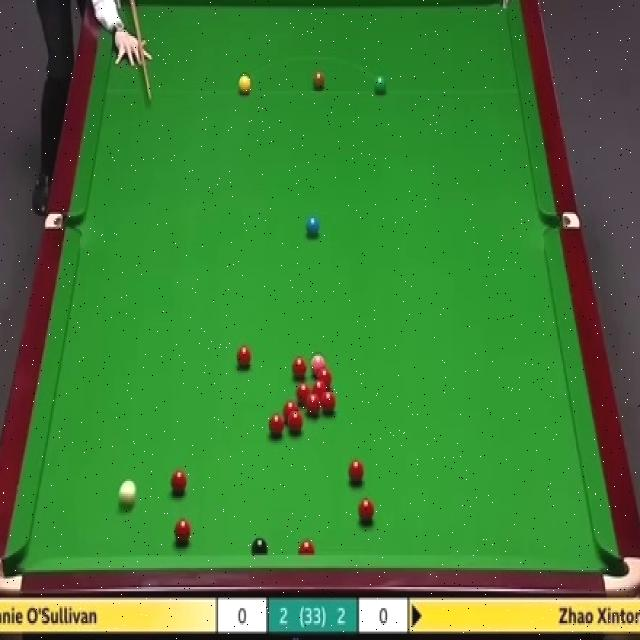black-ball: (250, 537, 268, 557)
blue-ball: (306, 216, 320, 239)
brown-ball: (314, 74, 326, 94)
green-ball: (373, 75, 390, 95)
pink-ball: (310, 352, 326, 370)
red-ball: (174, 517, 192, 547), (267, 412, 285, 439), (170, 468, 187, 496), (358, 496, 375, 524), (348, 460, 364, 487), (287, 410, 304, 435), (235, 345, 252, 369), (305, 392, 321, 417), (298, 536, 315, 556), (296, 382, 310, 404), (292, 356, 306, 378), (321, 393, 336, 413), (316, 369, 332, 385), (282, 400, 299, 415), (312, 381, 326, 394)
white-ball: (118, 474, 137, 508)
yellow-ball: (238, 73, 252, 93)
